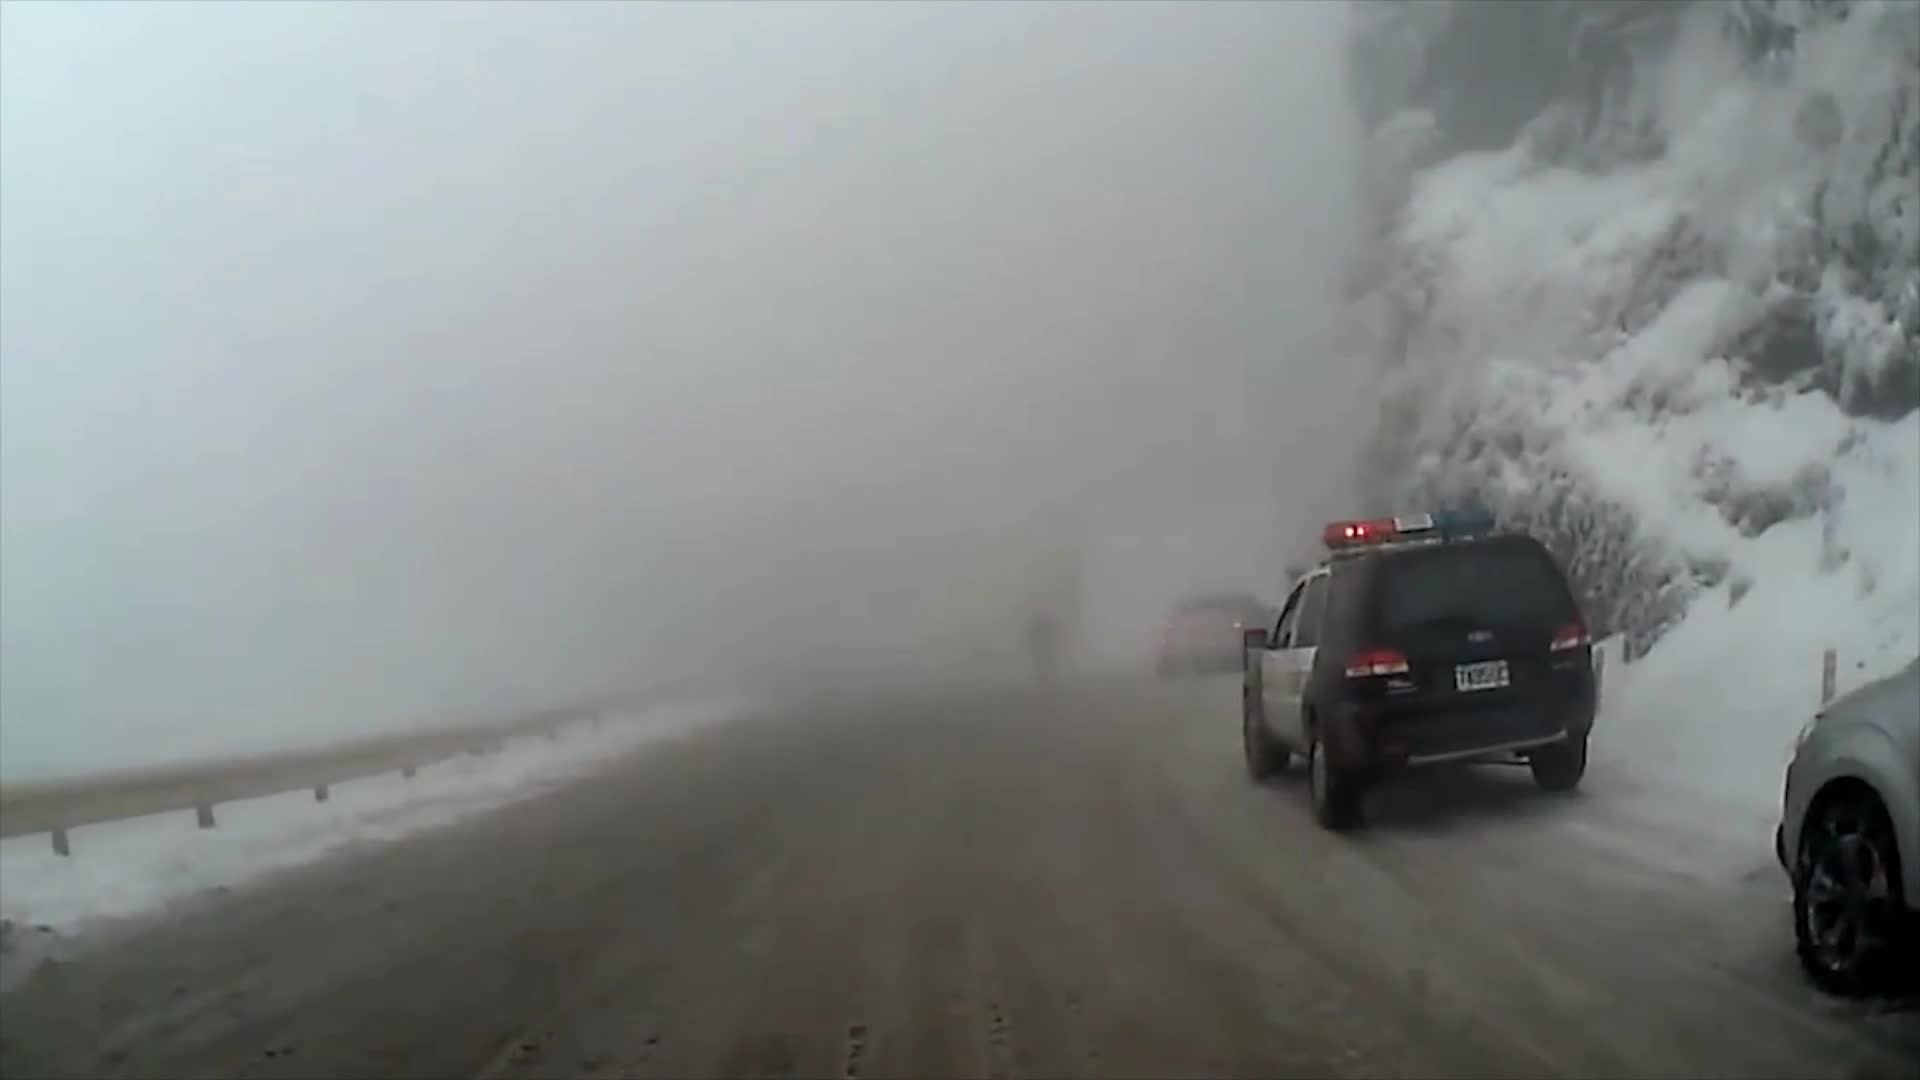vehicle: (1238, 504, 1600, 839), (1768, 661, 1920, 997), (1153, 589, 1276, 679)
